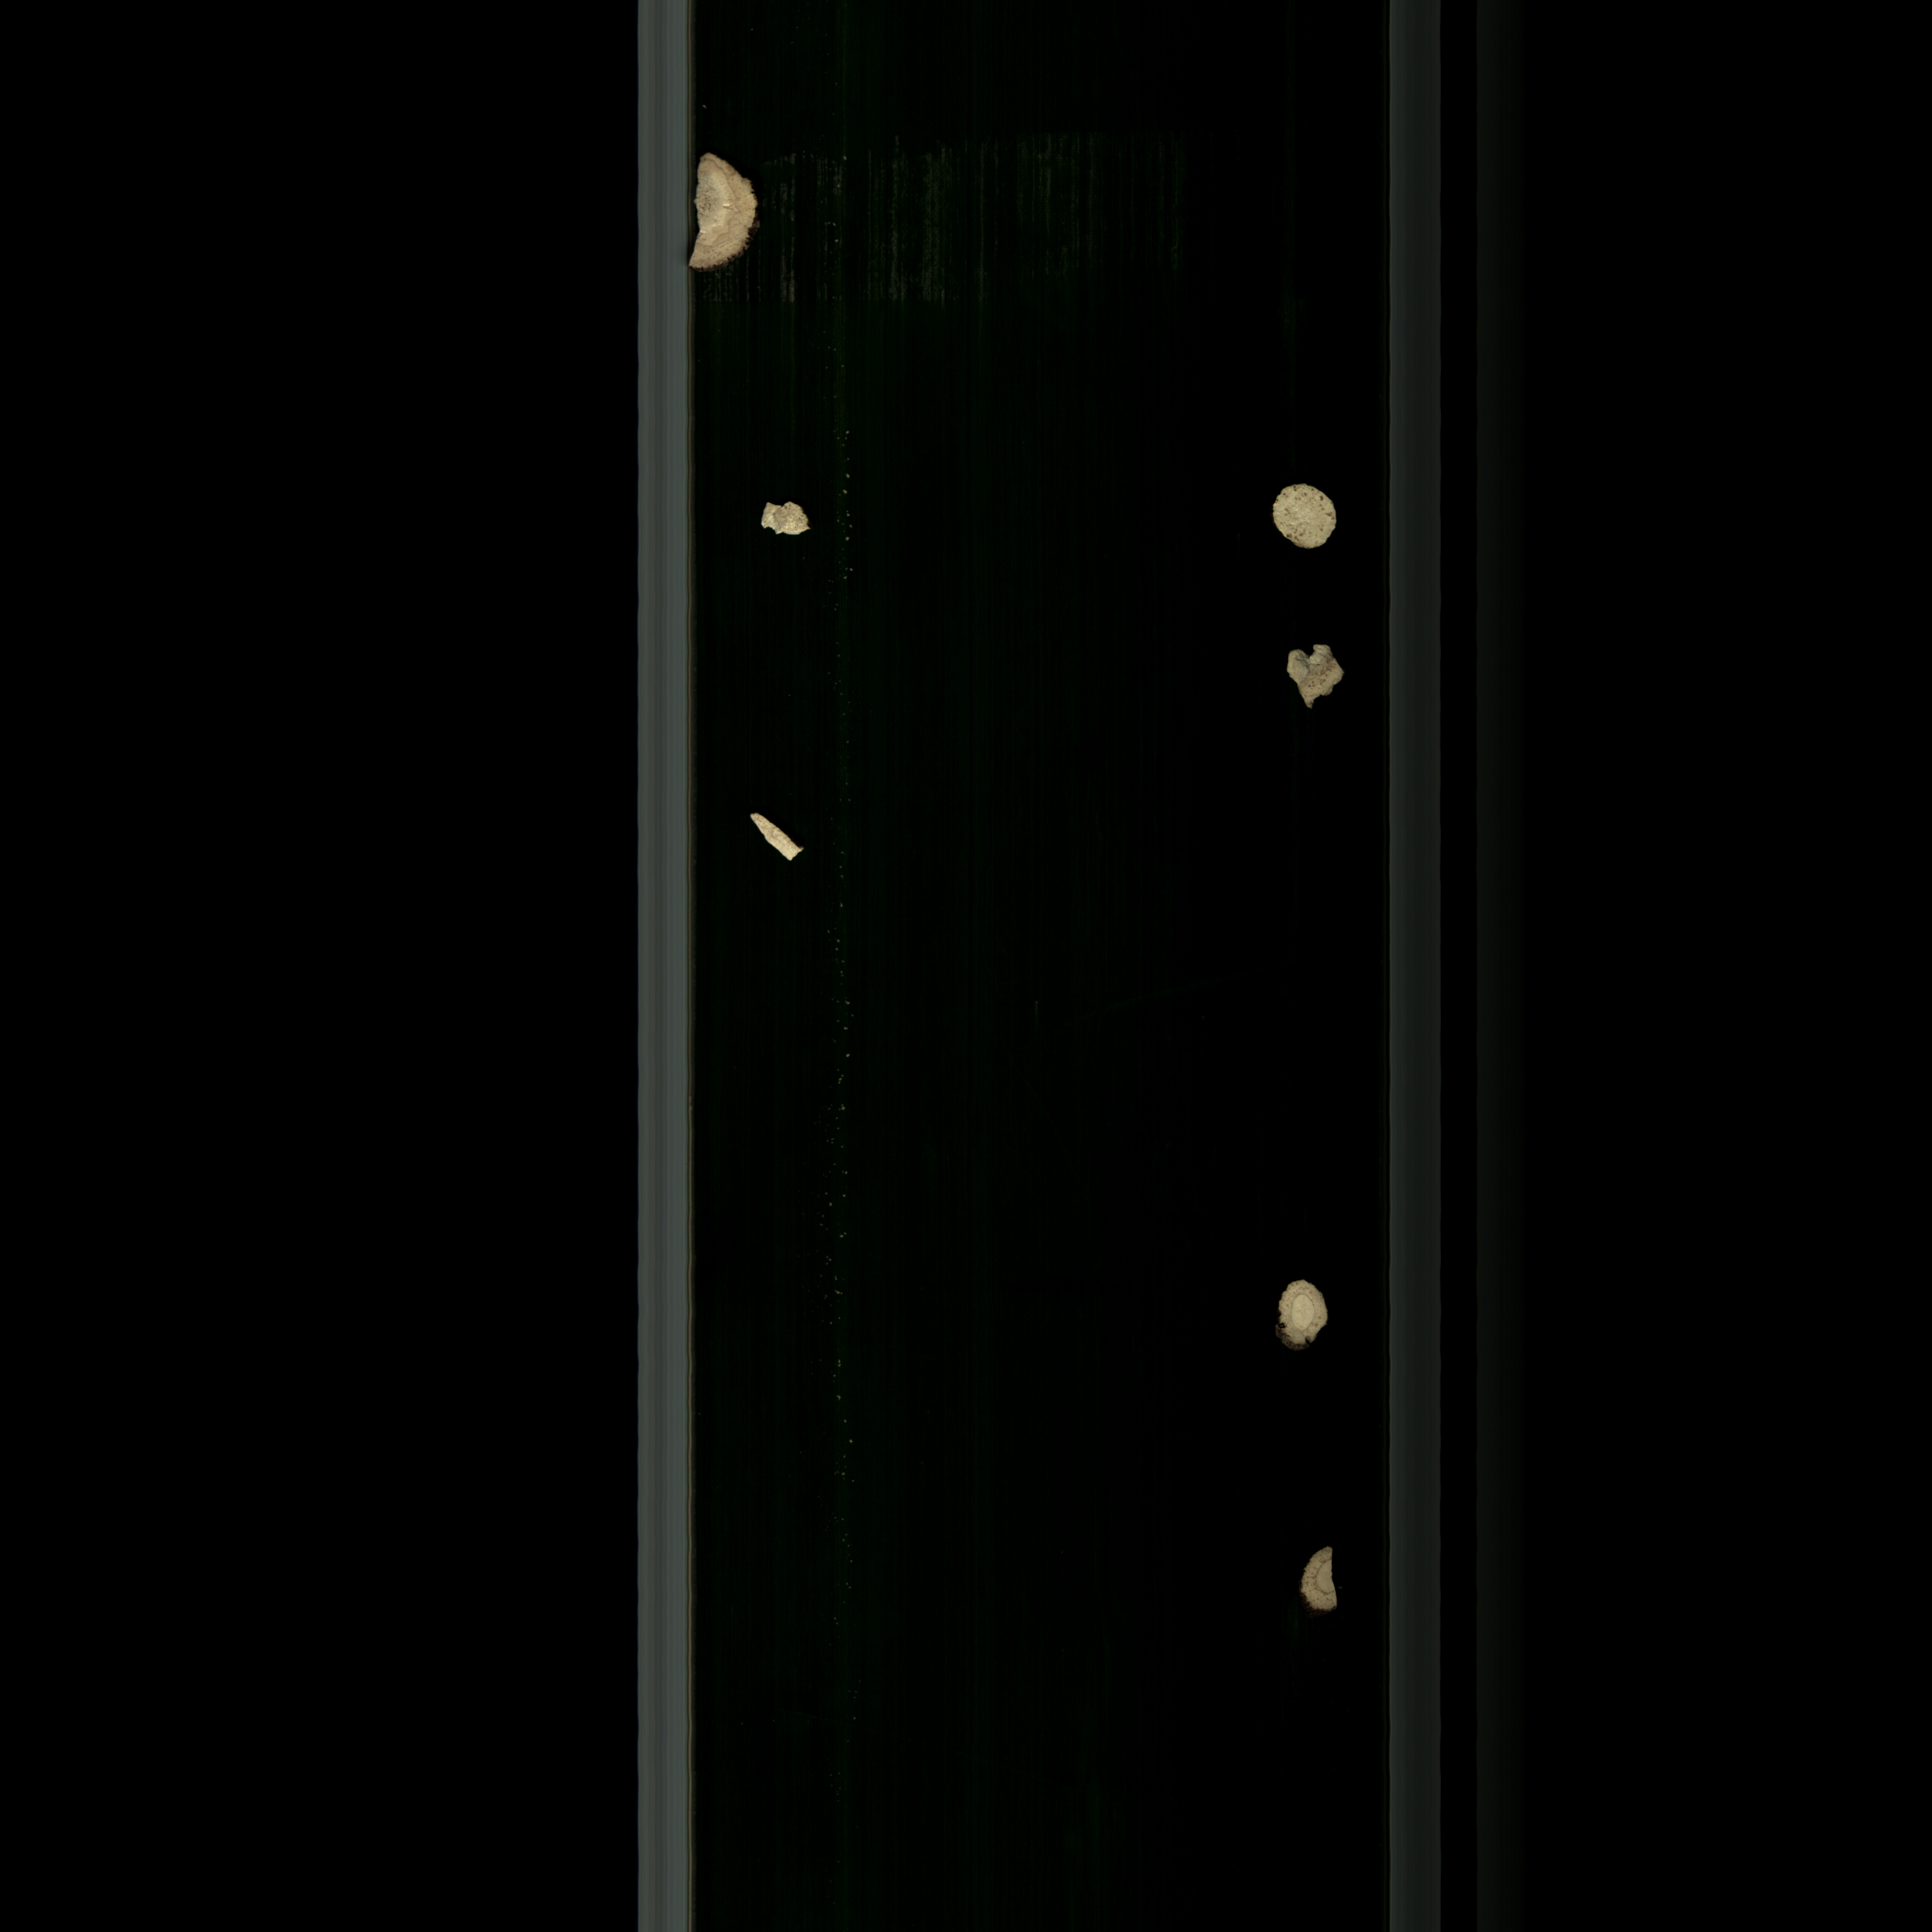distortion: (1276, 642, 1346, 720), (1272, 1272, 1336, 1357), (1288, 1537, 1345, 1622), (740, 801, 807, 869), (745, 495, 817, 550)
moldy: (686, 149, 770, 280)
